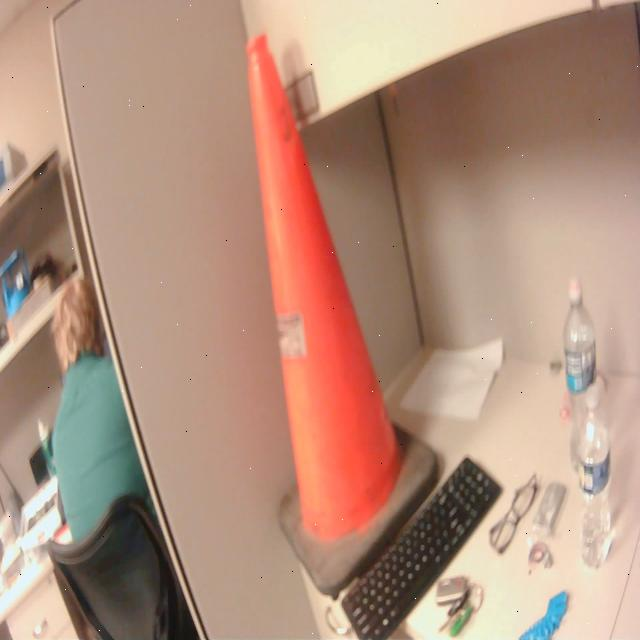traffic cone: (242, 26, 442, 601)
